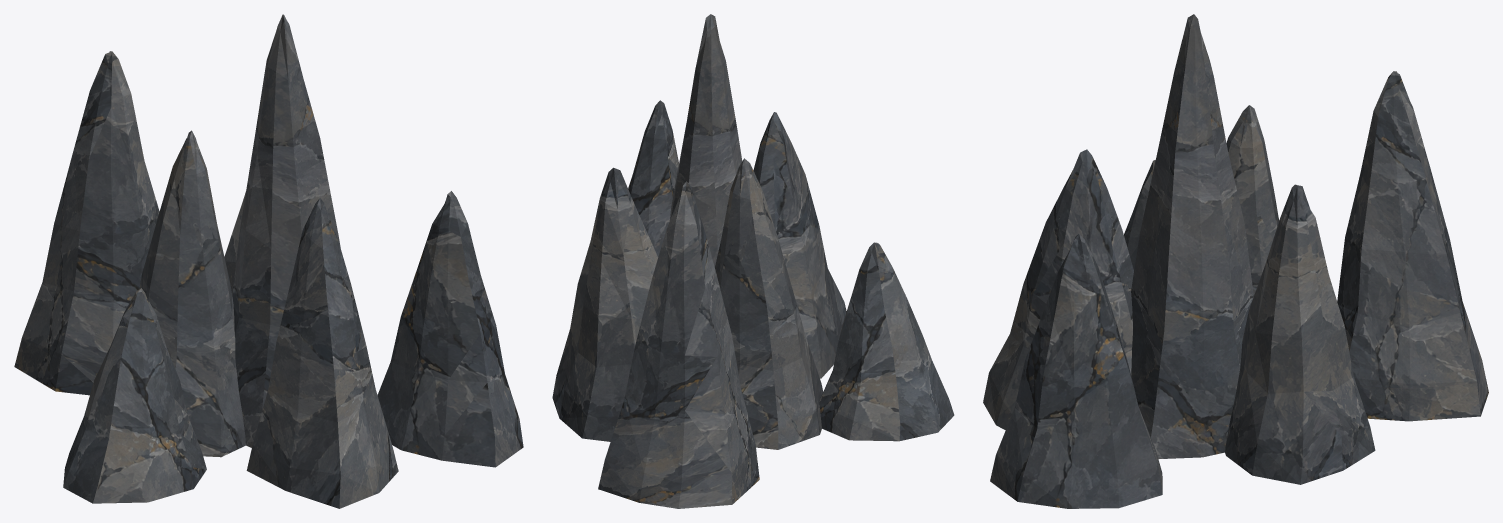
The model's file is Cave_R15_LowStalagmites.fbx.
3 renders of one model, left to right at view 1: azimuth 30°, elevation 25°; view 2: azimuth 150°, elevation 25°; view 3: azimuth 270°, elevation 25°, orthographic. The views are drawn at different scales.
Parts seen in each view (by area): view 1: Cave_R15_LowStalagmites_LOD0; view 2: Cave_R15_LowStalagmites_LOD0; view 3: Cave_R15_LowStalagmites_LOD0.
Boxes of the visible parts, x1,y1,x2,y2 form: Cave_R15_LowStalagmites_LOD0: (14,14,523,508); Cave_R15_LowStalagmites_LOD0: (552,14,954,508); Cave_R15_LowStalagmites_LOD0: (983,14,1488,508).
Size of what is drawn, in the model's own units: 1.43 by 1.39 by 1.54.
Materials: 1 (1 with a texture image).
